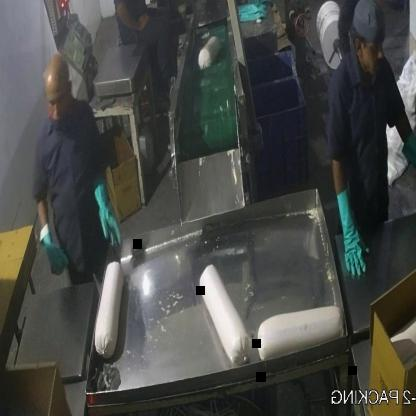glove: (92, 175, 138, 253), (337, 179, 368, 276)
no_glove: (112, 0, 150, 37)
